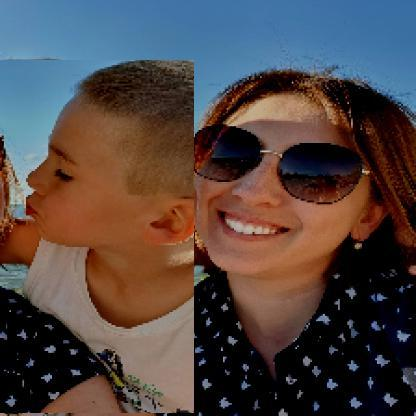child: (1, 61, 196, 415)
